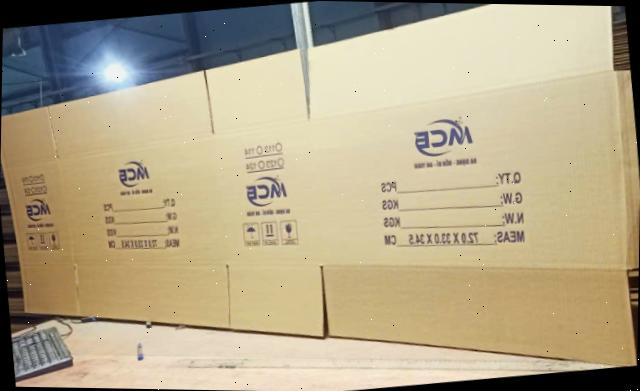box: (1, 3, 640, 364)
